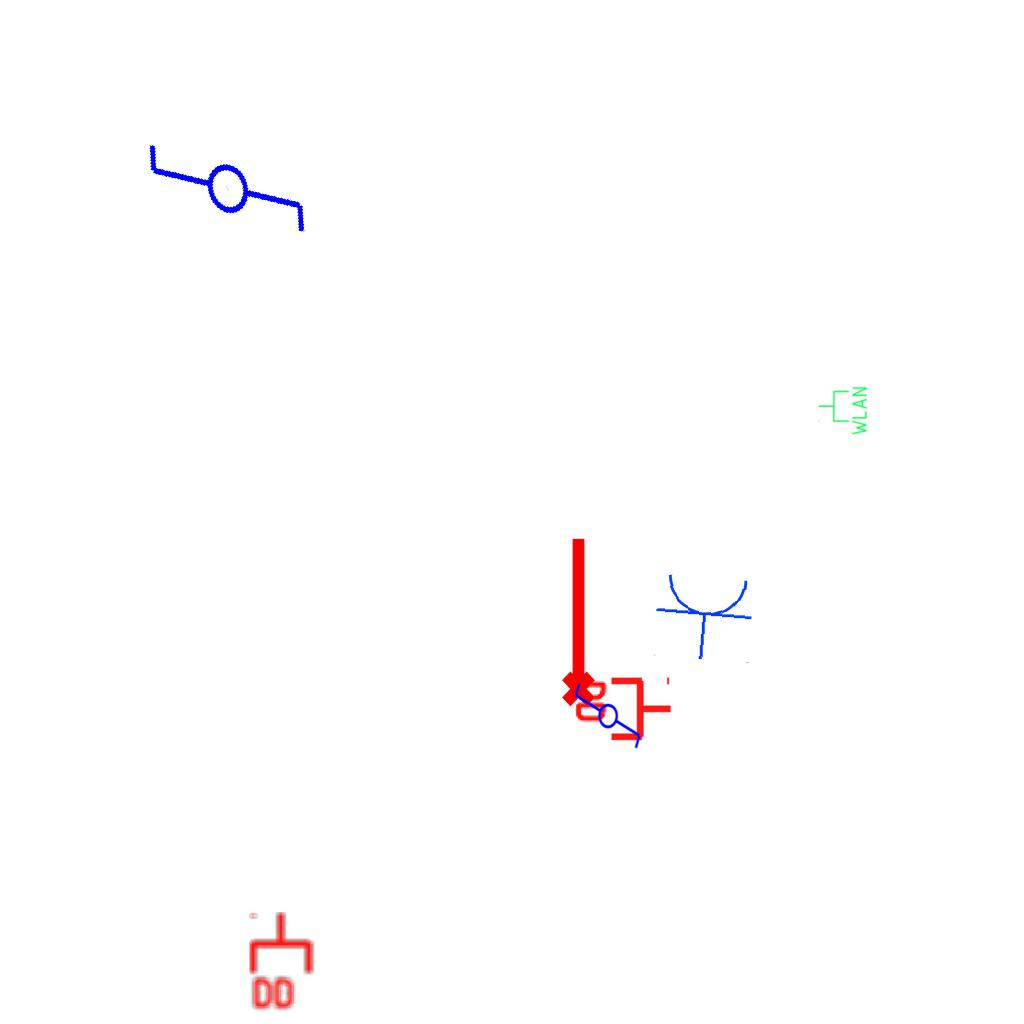ASR_Ansaugoeffnung: (553, 533, 599, 709)
Datenanschluss_zweifach: (571, 676, 674, 745), (248, 910, 317, 1013)
Schukosteckdose_einfach: (651, 568, 759, 665)
WLAN: (817, 385, 869, 437)
Wechselschalter: (134, 99, 323, 295), (571, 681, 643, 759)
